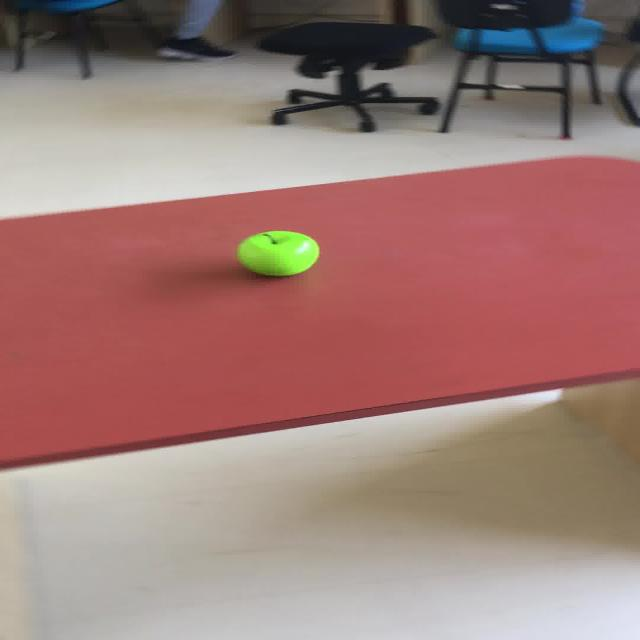apple: (235, 230, 318, 276)
